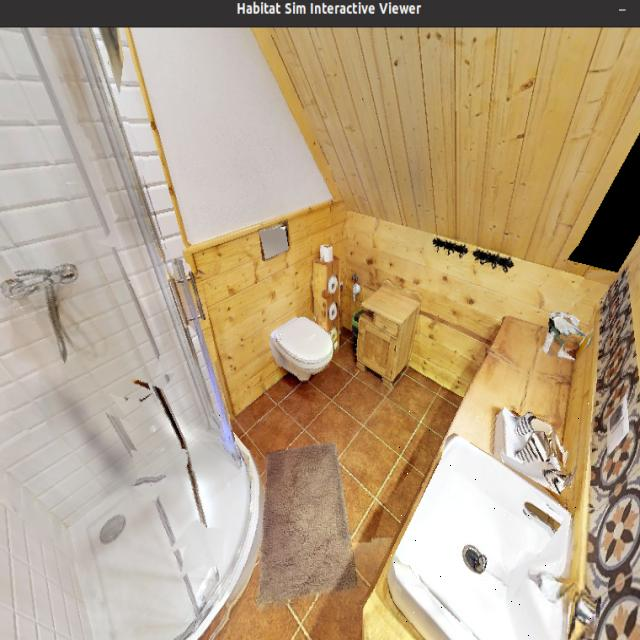shower: (0, 29, 274, 640)
sink: (379, 403, 594, 640)
toilet: (264, 307, 346, 398)
